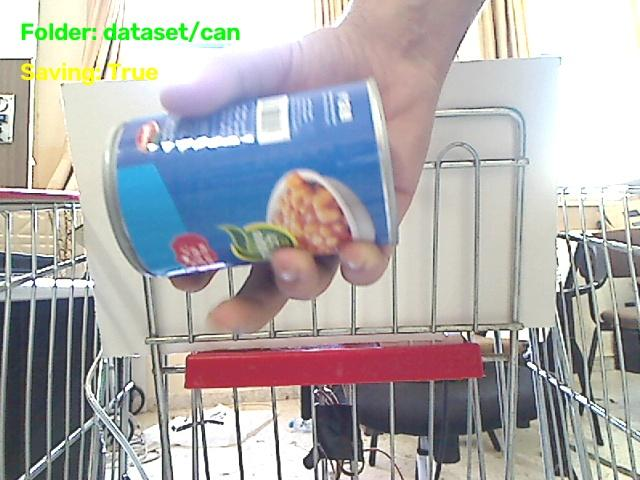can: (104, 79, 397, 276)
